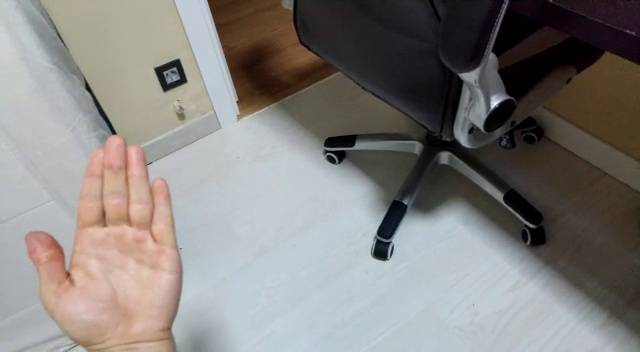Palm: (16, 132, 178, 351)
